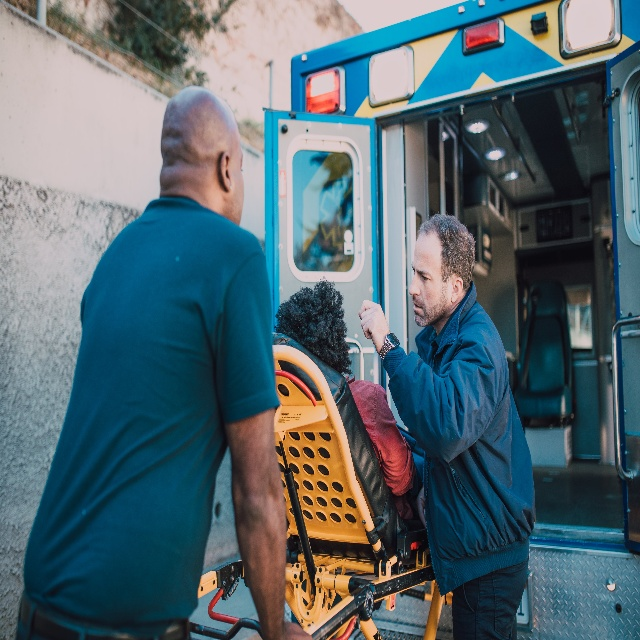Sin_guantes: (358, 299, 390, 354), (283, 621, 312, 640), (415, 486, 427, 528)
